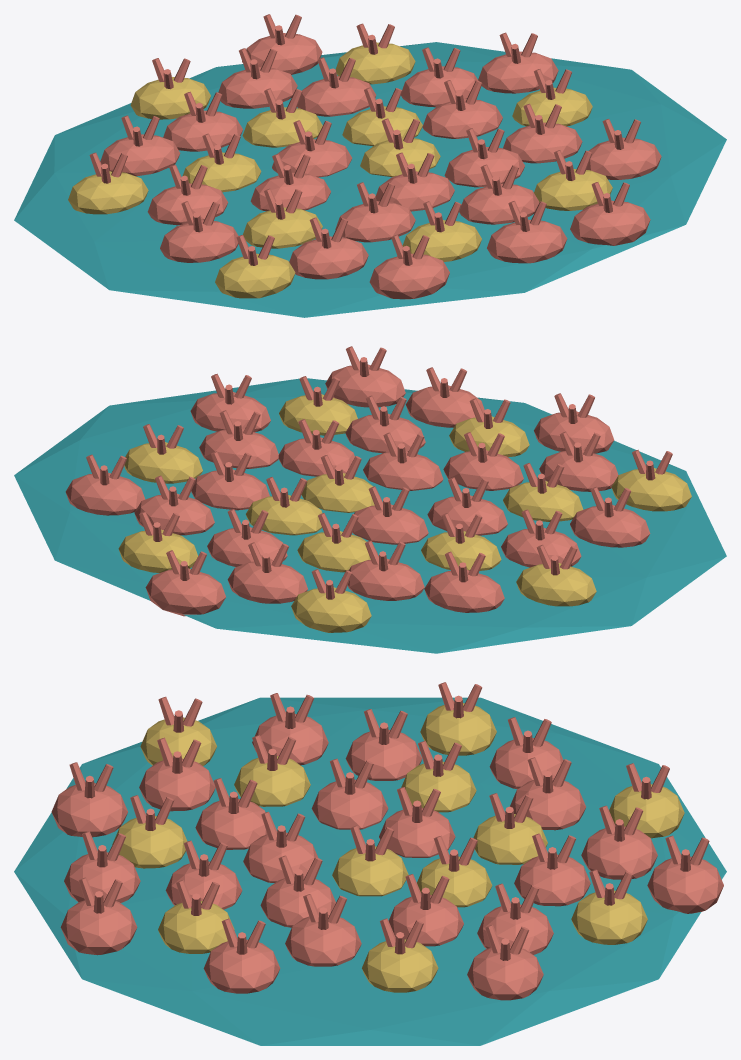
Rendered from FEATURE_BARRIER_REEF.fbx.
3 views of the same model, one above another, from view 1: azimuth 30°, elevation 25°; view 2: azimuth 150°, elevation 25°; view 3: azimuth 270°, elevation 25° (orthographic). The views are drawn at different scales.
Visible parts, largest first — view 1: Coral_lagoon, Coral_bommie.028, Coral_bommie.031, Coral_bommie.033, Coral_bommie.023, Coral_bommie.030, Coral_bommie.020, Coral_bommie.025, Coral_bommie.029, Coral_bommie.026, Coral_bommie.027, Coral_bommie.019 (+23 smaller); view 2: Coral_lagoon, Coral_bommie.032, Coral_bommie.027, Coral_bommie.030, Coral_bommie.022, Coral_bommie.019, Coral_bommie.025, Coral_bommie.029, Coral_bommie.033, Coral_bommie.014, Coral_bommie.021, Coral_bommie.002 (+23 smaller); view 3: Coral_lagoon, Coral_bommie.032, Coral_bommie.031, Coral_bommie.029, Coral_bommie.024, Coral_bommie.026, Coral_bommie.028, Coral_bommie.021, Coral_bommie.013, Coral_bommie.019, Coral_bommie.030, Coral_bommie.020 (+23 smaller).
Boxes of the visible parts, x1,y1,x2,y2 form: Coral_lagoon: (14,42,726,317); Coral_bommie.028: (369,253,449,299); Coral_bommie.031: (570,200,650,245); Coral_bommie.033: (215,253,295,298); Coral_bommie.023: (487,219,567,263); Coral_bommie.030: (68,171,148,214); Coral_bommie.020: (289,236,368,279); Coral_bommie.025: (160,220,238,262); Coral_bommie.029: (478,51,558,93); Coral_bommie.026: (586,137,661,179); Coral_bommie.027: (130,77,210,119); Coral_bommie.019: (218,67,297,108); Coral_lagoon: (14,378,726,653); Coral_bommie.032: (145,568,225,616); Coral_bommie.027: (291,587,371,632); Coral_bommie.030: (516,563,596,606); Coral_bommie.022: (424,570,504,612); Coral_bommie.019: (227,560,307,603); Coral_bommie.025: (570,505,650,547); Coral_bommie.029: (65,472,145,515); Coral_bommie.033: (611,468,691,511); Coral_bommie.014: (347,558,424,600); Coral_bommie.021: (124,442,202,483); Coral_bommie.002: (363,451,443,490); Coral_lagoon: (14,697,726,1045); Coral_bommie.032: (647,856,723,913); Coral_bommie.031: (60,898,137,955); Coral_bommie.029: (467,945,543,1000); Coral_bommie.024: (571,890,647,944); Coral_bommie.026: (203,939,280,993); Coral_bommie.028: (51,783,127,837); Coral_bommie.021: (362,939,438,992); Coral_bommie.013: (285,914,361,966); Coral_bommie.019: (581,826,657,879); Coral_bommie.030: (420,703,496,755); Coral_bommie.020: (139,758,215,811).
Size of the model in its own units: 150 by 14.05 by 130.
